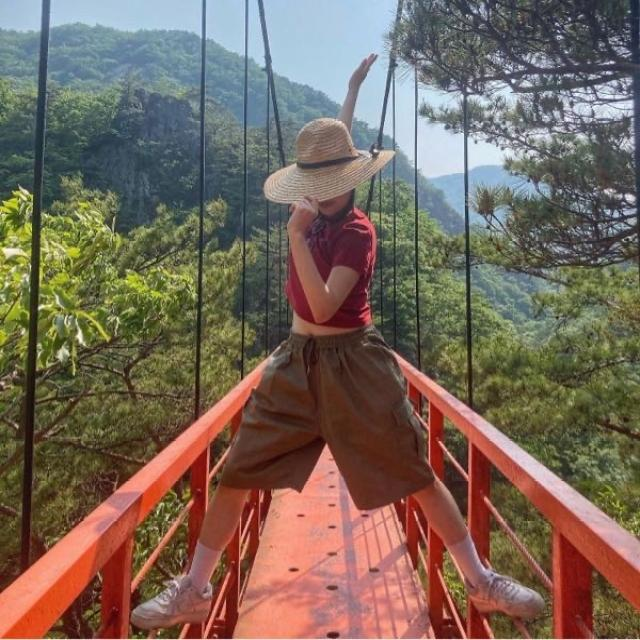shortpants: (216, 324, 437, 509)
shortsleeve: (282, 205, 376, 326)
